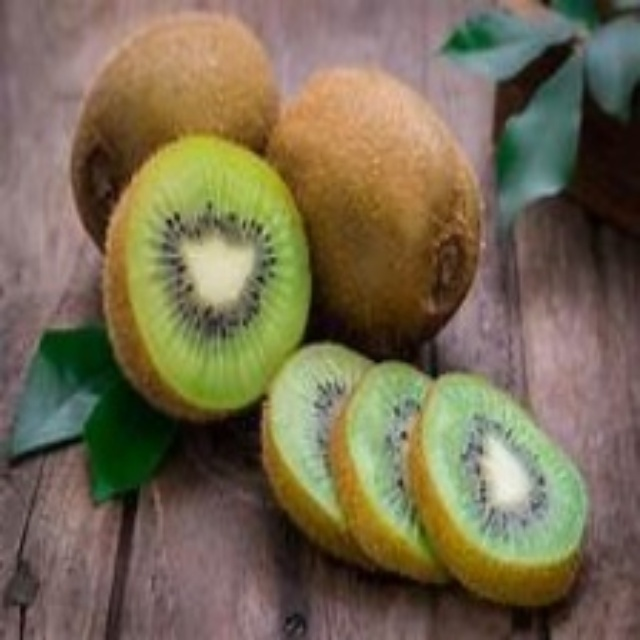kiwi: (259, 335, 582, 599), (82, 151, 312, 413), (265, 64, 479, 322), (60, 18, 296, 247)
